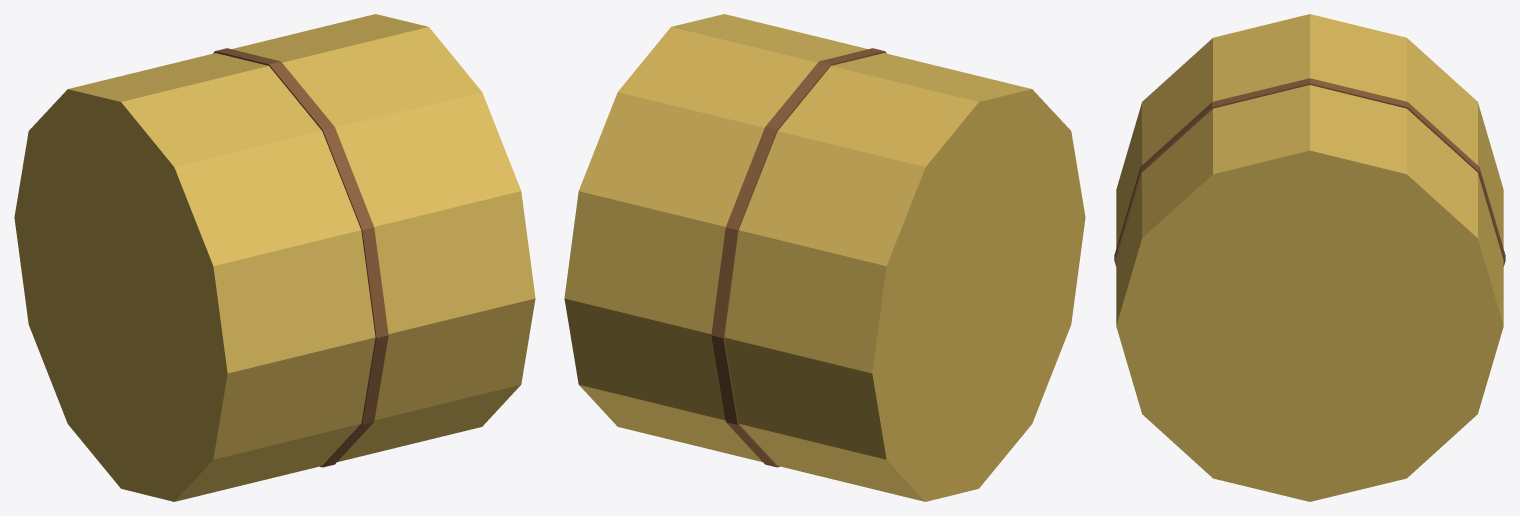
Rendered from hay-bale.glb.
The picture shows the model from 3 angles, left to right: view 1: azimuth 30°, elevation 25°; view 2: azimuth 150°, elevation 25°; view 3: azimuth 270°, elevation 25°; orthographic projection. The views are drawn at different scales.
Parts seen in each view (by area): view 1: hay; view 2: hay; view 3: hay.
Part boxes in pixels (x1=…): hay: x1=14, y1=14, x2=535, y2=501; hay: x1=564, y1=14, x2=1085, y2=501; hay: x1=1114, y1=14, x2=1505, y2=501.
Bounding box in the file's own units: 1 × 1.21 × 1.21.
